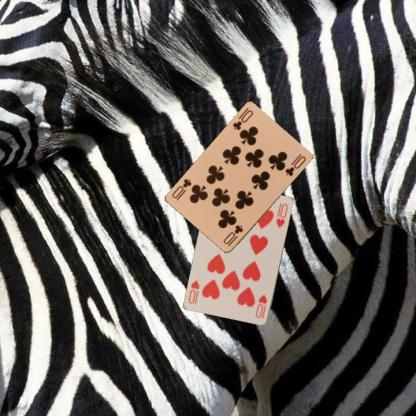10c: (230, 107, 254, 132), (221, 222, 244, 248)
10h: (253, 292, 269, 320)
